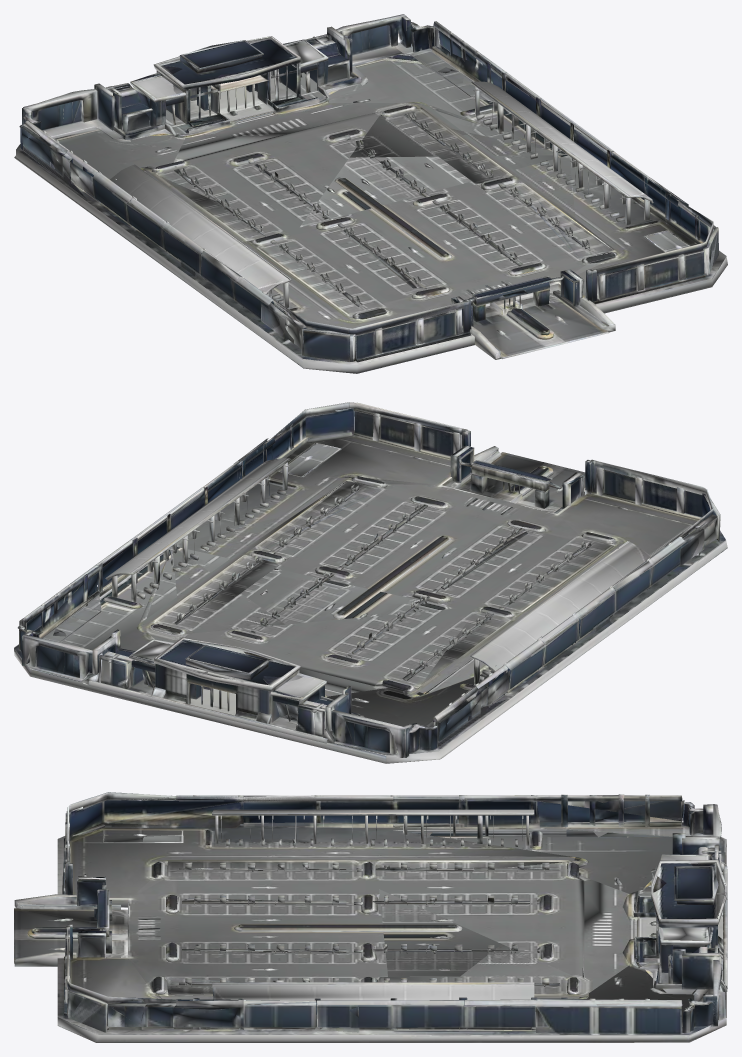
Rendered from parking_facility.glb.
3 views of the same model, one above another, from view 1: azimuth 30°, elevation 25°; view 2: azimuth 150°, elevation 25°; view 3: azimuth 270°, elevation 25° (orthographic). The views are drawn at different scales.
Parts seen in each view (by area): view 1: prop; view 2: prop; view 3: prop.
Part boxes in pixels (x1,y1,x2,y2): prop: (14,14,727,373); prop: (14,402,727,763); prop: (14,792,727,1042).
Size of the model in its own units: 21.26 by 2.45 by 30.
1 material, 1 textured.
